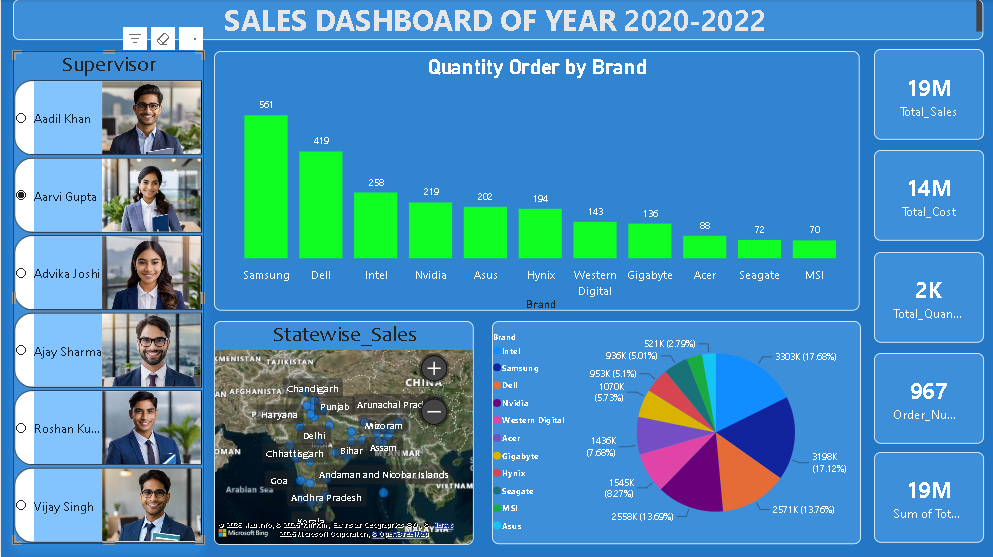

The dashboard page shown, as its layout file describes it:
{"tool":"powerbi","page":{"name":"Page 1","canvas":[1280,720],"ordinal":0},"visuals":[{"type":"textbox","box":[15.9,0,1252,53.5],"z":0},{"type":"cardVisual","fields":{"Data":["Sum(Sales_Data.Total_Sales)"]},"box":[1126.7,65,141.7,116.7],"z":1000},{"type":"cardVisual","fields":{"Data":["Sum(Sales_Data.Total_Cost)"]},"box":[1126.7,195,141.7,116.7],"z":2000},{"type":"cardVisual","fields":{"Data":["Sum(Sales_Data.Quantity)"]},"box":[1126.7,326.7,141.7,116.7],"z":3000},{"type":"cardVisual","fields":{"Data":["CountNonNull(Sales_Data.Order_Number)"]},"box":[1126.7,456.7,141.7,116.7],"z":4000},{"type":"cardVisual","fields":{"Data":["Sum(Sales_Data.Total_Sales)"]},"box":[1126.7,585,141.7,116.7],"z":5000},{"type":"clusteredColumnChart","title":"Quantity Order by Brand","fields":{"Y":["Sum(Sales_Data.Quantity)"],"Category":["Sales_Data.Brand"]},"box":[274.7,66.5,832.8,335.4],"z":6000},{"type":"pieChart","fields":{"Y":["Sum(Sales_Data.Total_Sales)"],"Category":["Sales_Data.Brand"]},"box":[633.3,414.9,475.7,287.7],"z":7000},{"type":"map","title":"Statewise_Sales","fields":{"Category":["State_list.State"]},"box":[274.7,414.9,335.4,289.2],"z":8000},{"type":"listSlicer","fields":{"Values":["Supervisor.Supervisor"]},"box":[15.9,66.5,245.8,636.1],"z":9000}]}

Visuals, with their boxes in screenshot pixels (x1, y1, x2, y2), scaled from the page's 1280x720 canvas onto the 993x557 screenshot:
textbox: {"left": 12, "top": 0, "right": 984, "bottom": 41}
cardVisual - Sum(Sales_Data.Total_Sales): {"left": 874, "top": 50, "right": 984, "bottom": 141}
cardVisual - Sum(Sales_Data.Total_Cost): {"left": 874, "top": 151, "right": 984, "bottom": 241}
cardVisual - Sum(Sales_Data.Quantity): {"left": 874, "top": 253, "right": 984, "bottom": 343}
cardVisual - CountNonNull(Sales_Data.Order_Number): {"left": 874, "top": 353, "right": 984, "bottom": 444}
cardVisual - Sum(Sales_Data.Total_Sales): {"left": 874, "top": 453, "right": 984, "bottom": 543}
"Quantity Order by Brand" clusteredColumnChart: {"left": 213, "top": 51, "right": 859, "bottom": 311}
pieChart - Sum(Sales_Data.Total_Sales) x Sales_Data.Brand: {"left": 491, "top": 321, "right": 860, "bottom": 544}
"Statewise_Sales" map: {"left": 213, "top": 321, "right": 473, "bottom": 545}
listSlicer - Supervisor.Supervisor: {"left": 12, "top": 51, "right": 203, "bottom": 544}
